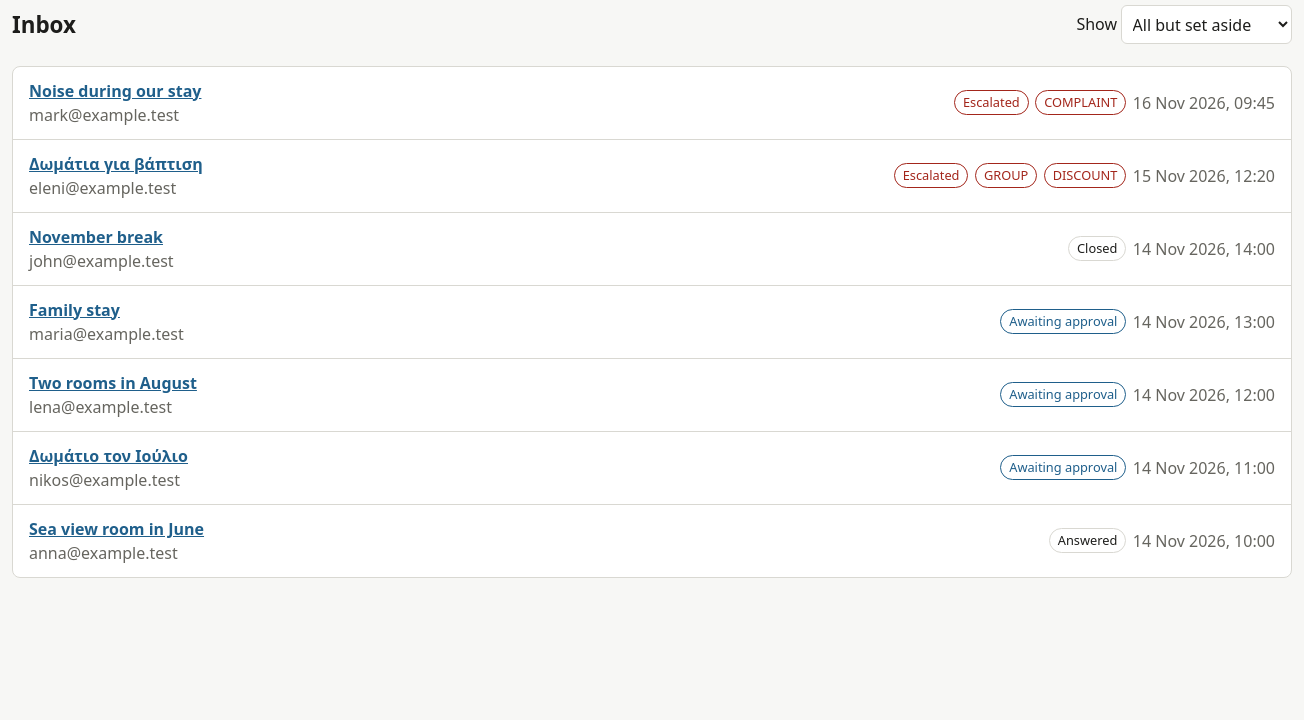
Test: Inbox › an empty filter says so
The width and height of the screenshot is (1304, 720).
Select "Expired" in the dropdown labelled "Show" at (1207, 25), box left=1121, top=5, right=1292, bottom=44
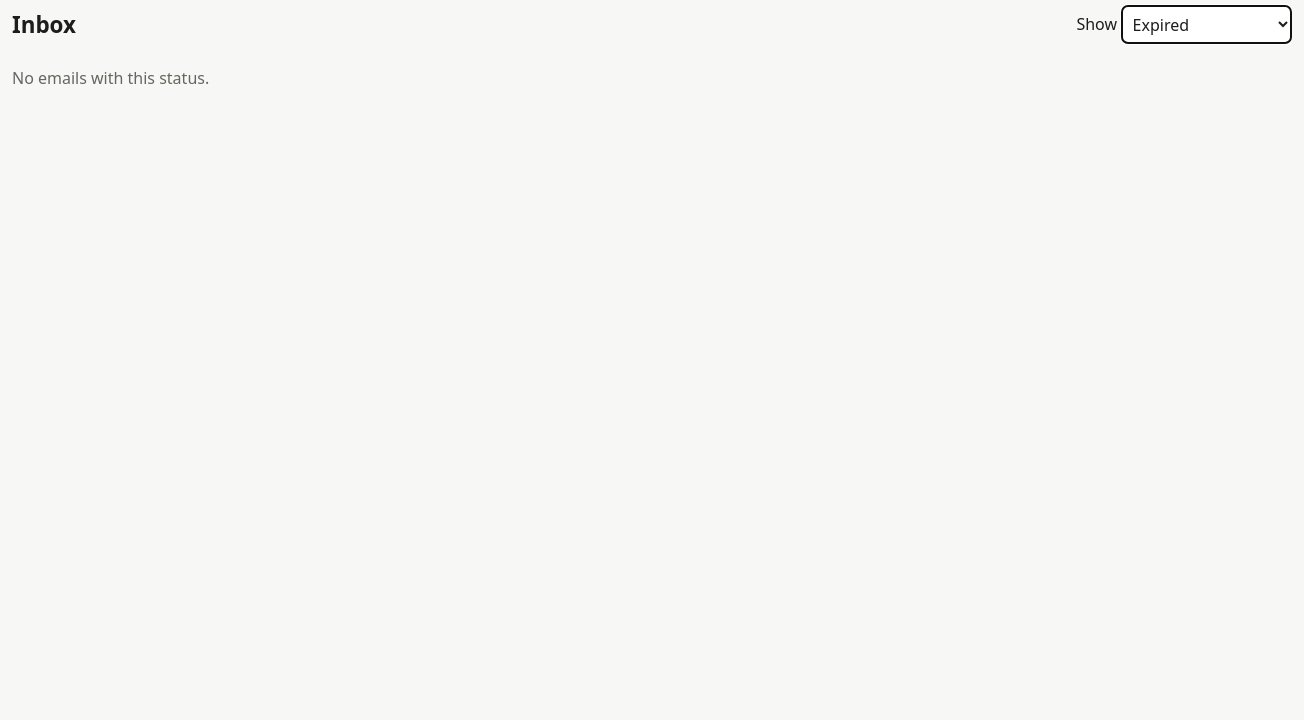
Check: the text "No emails with this status." is shown, box left=12, top=67, right=209, bottom=89
